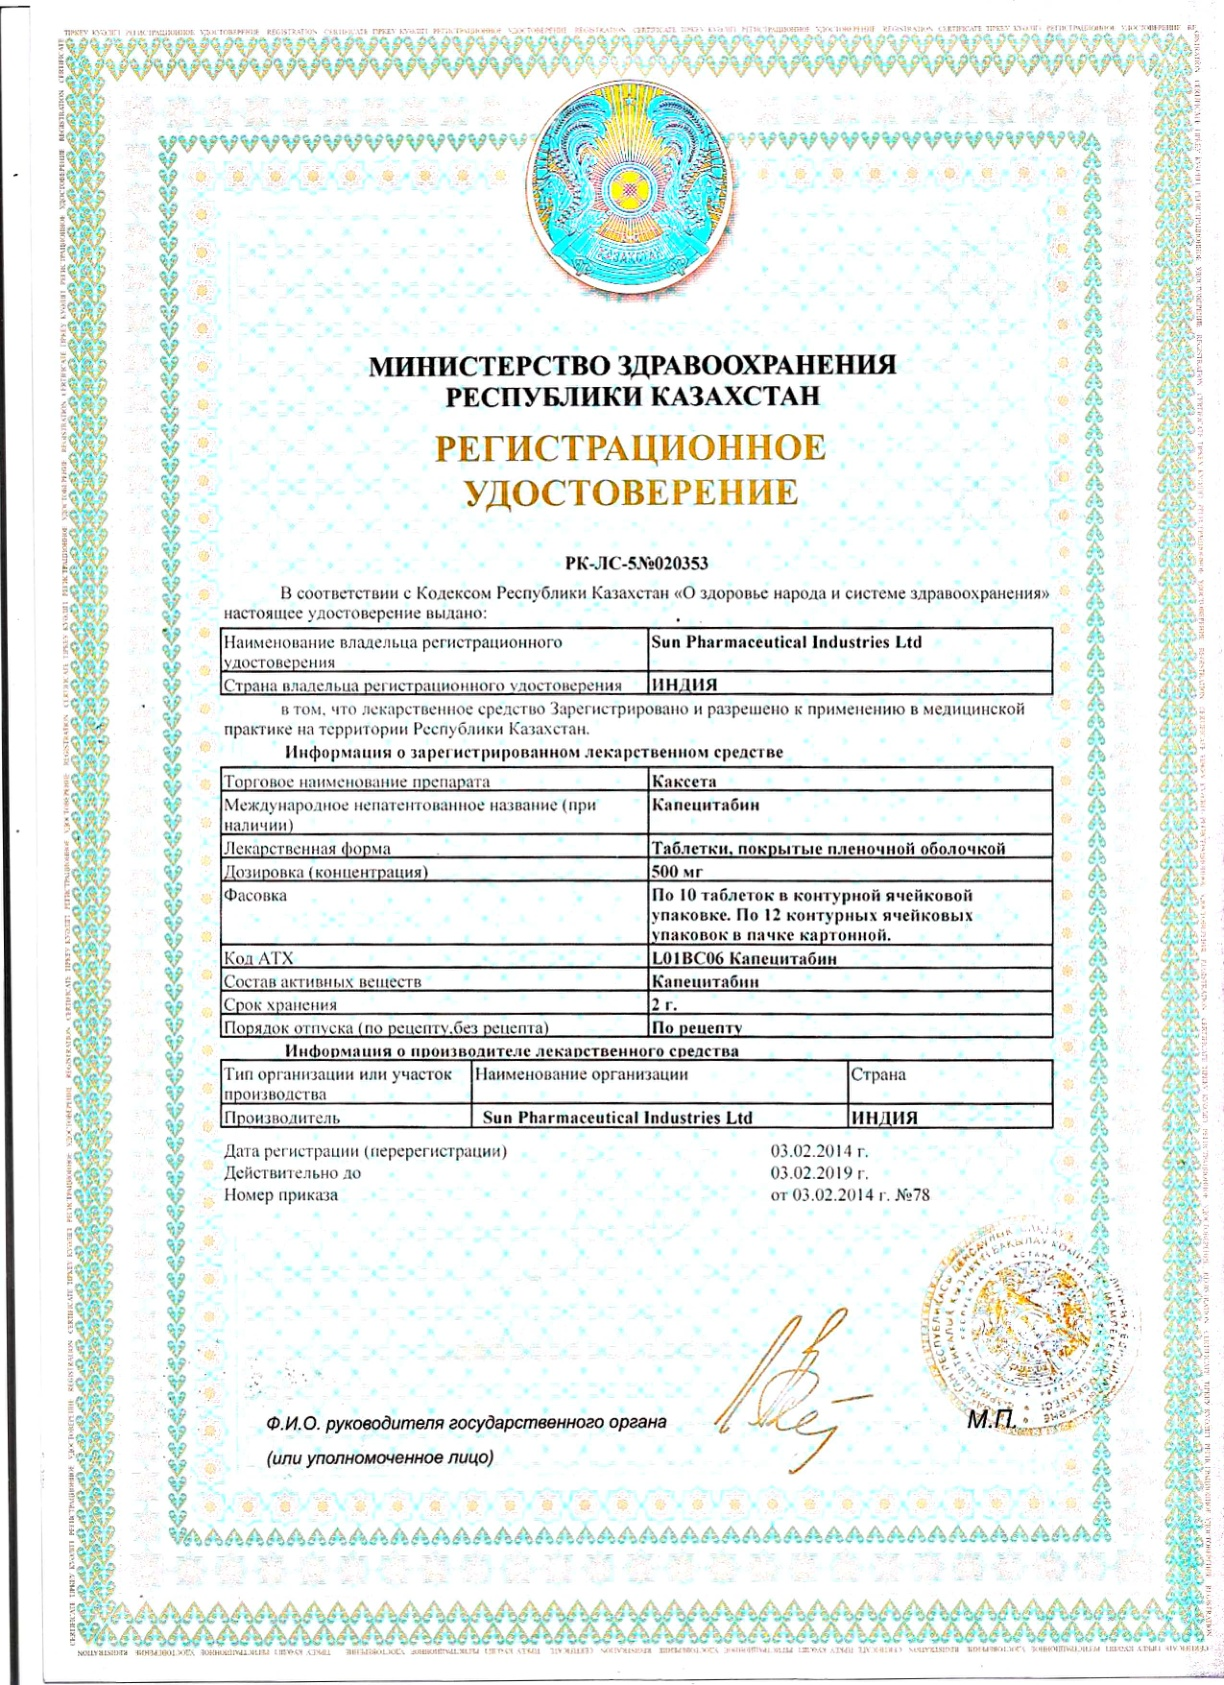full_lined: (218, 767, 1054, 1039), (218, 1057, 1055, 1129), (218, 627, 1054, 696)
